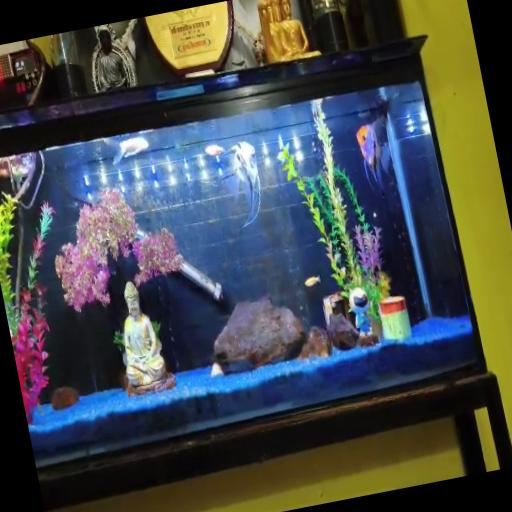Fish: (221, 141, 260, 228), (356, 101, 390, 196), (356, 117, 390, 196), (113, 136, 148, 165), (204, 145, 223, 157), (304, 277, 320, 287)
